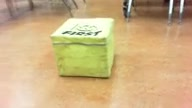cube: (50, 19, 113, 77)
